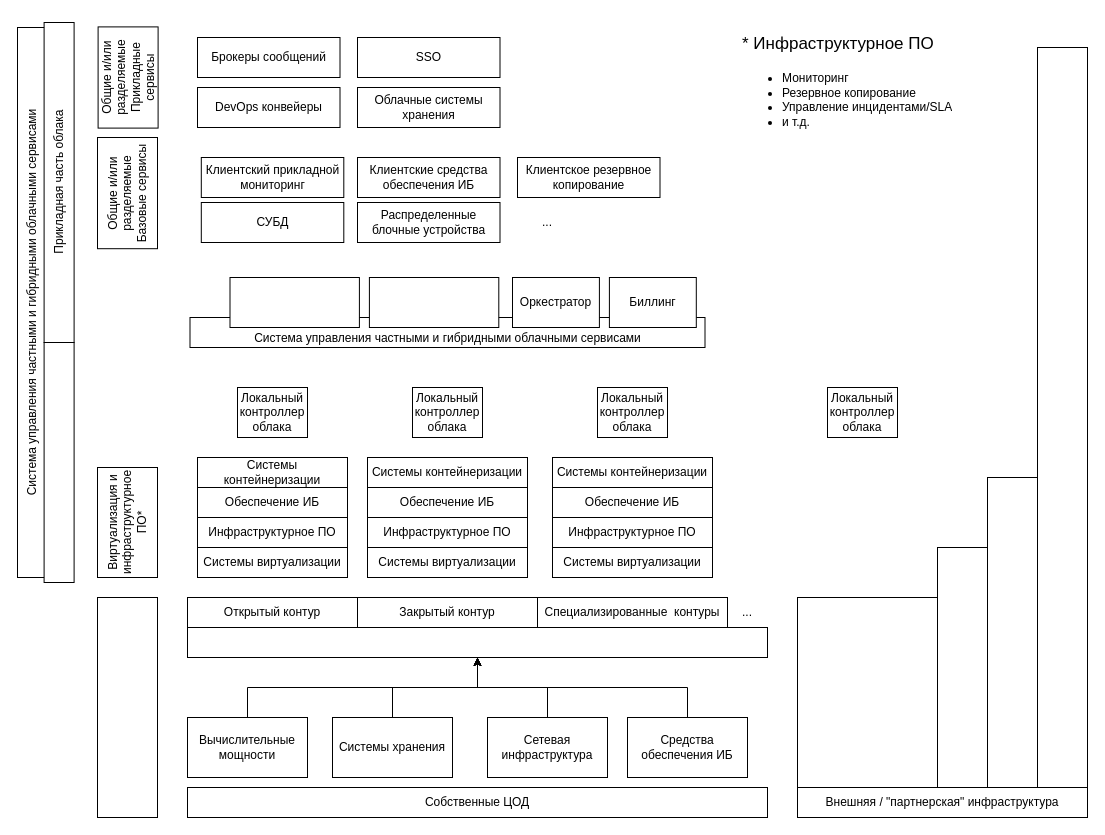
Image size: 1105x835. Some labels were removed from this diagram. Here are the shapes that lost their labels. From the top down, the box of each, then its label:
(229, 276, 359, 328): Портал администрирования
(368, 276, 499, 328): Клиентская панель управления сервисами
(1036, 46, 1088, 788): PaaS
(43, 342, 74, 582): Инфраструктурная часть облака
(186, 626, 768, 658): Деление на сегменты и контуры безопасности
(986, 476, 1038, 788): IaaS+
(936, 546, 988, 788): IaaS
(96, 596, 158, 818): Инфраструктура
(796, 596, 938, 788): Колокейшн
